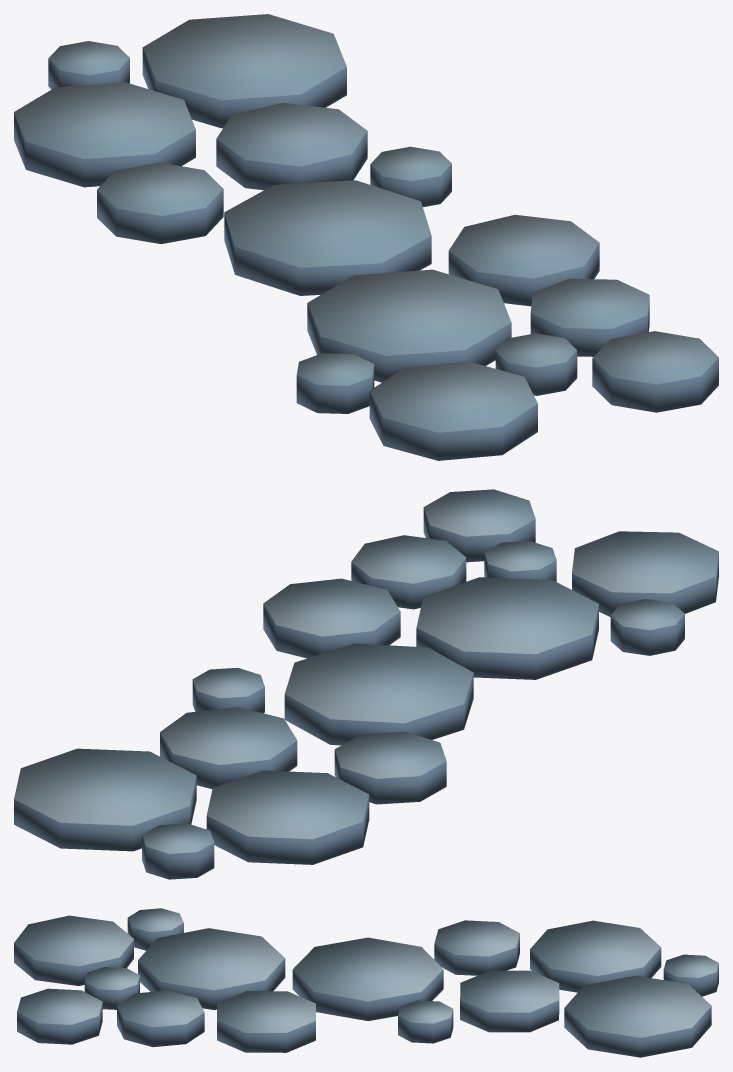
The model's file is rockpath1.fbx.
The picture shows the model from 3 angles, top to bottom: view 1: azimuth 30°, elevation 25°; view 2: azimuth 150°, elevation 25°; view 3: azimuth 270°, elevation 25°; orthographic projection. The views are drawn at different scales.
Parts seen in each view (by area): view 1: Cylinder.016; view 2: Cylinder.016; view 3: Cylinder.016.
Part boxes in pixels (box(x1,y1,x2,y2)): Cylinder.016: box(14, 14, 718, 460); Cylinder.016: box(14, 489, 718, 879); Cylinder.016: box(14, 908, 718, 1057).
Size of the model in its own units: 21.98 by 1.57 by 50.51.
